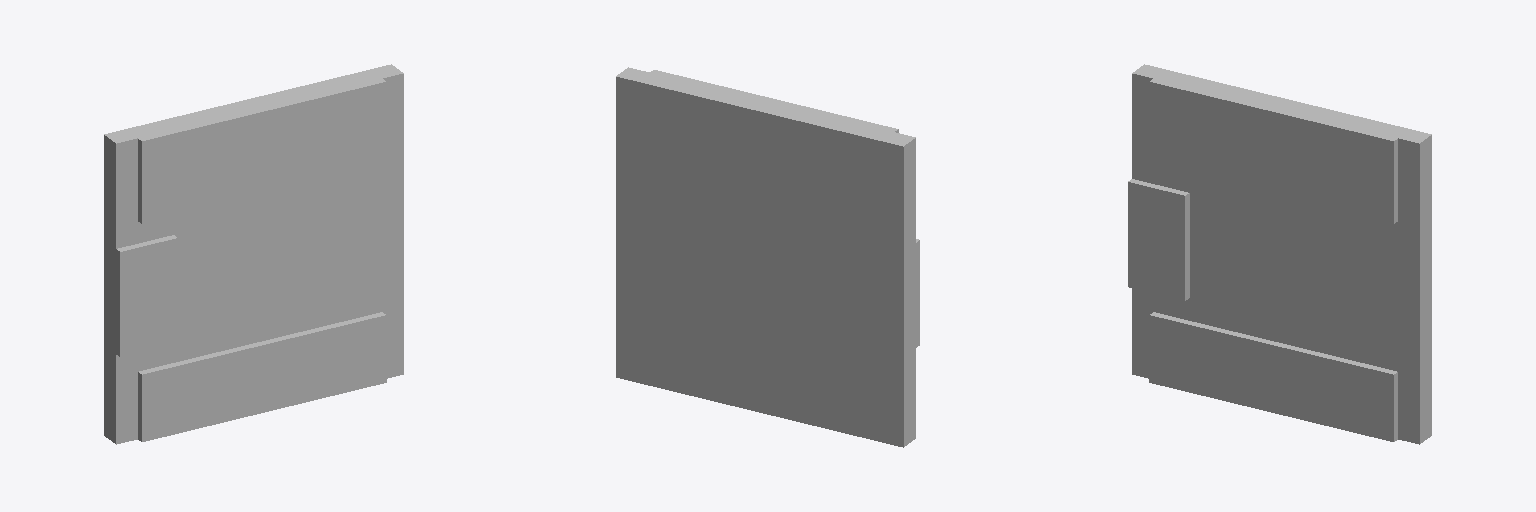
File: wall tile 03.obj
3 renders of one model, left to right at view 1: azimuth 30°, elevation 25°; view 2: azimuth 150°, elevation 25°; view 3: azimuth 330°, elevation 25°, orthographic.
Bounding box in the file's own units: 40 × 40 × 4.